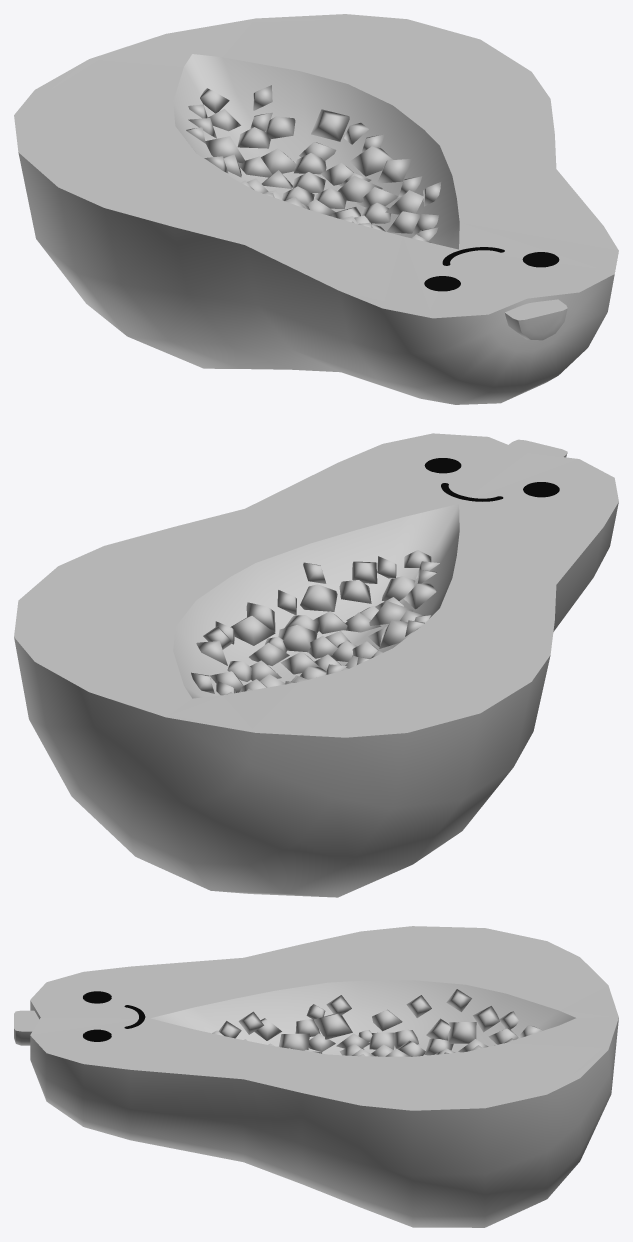
The model's file is papaya_smile.fbx.
3 views of the same model, one above another, from view 1: azimuth 30°, elevation 25°; view 2: azimuth 150°, elevation 25°; view 3: azimuth 270°, elevation 25° (orthographic). The views are drawn at different scales.
Visible parts, largest first — view 1: papaya_smile; view 2: papaya_smile; view 3: papaya_smile.
Boxes of the visible parts, x1=… form: papaya_smile: x1=14, y1=14, x2=618, y2=404; papaya_smile: x1=14, y1=433, x2=618, y2=897; papaya_smile: x1=14, y1=926, x2=618, y2=1227.
Bounding box in the file's own units: 81.34 × 39.23 × 113.
2 materials, 1 textured.
